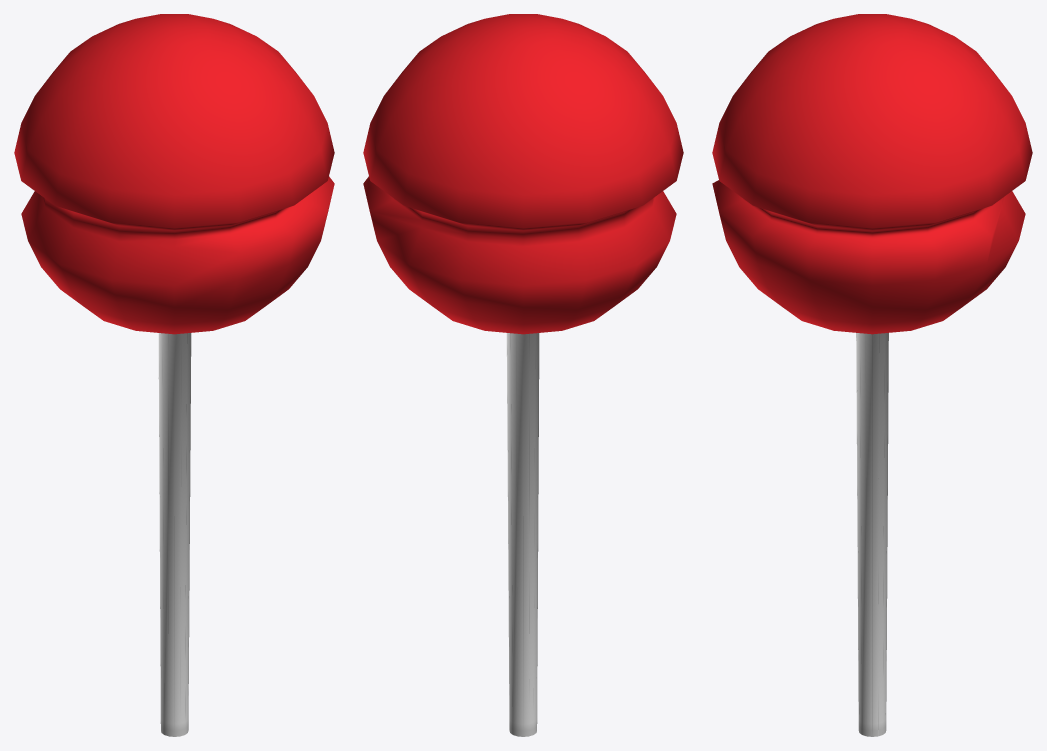
The model's file is lollipop.obj.
3 renders of one model, left to right at view 1: azimuth 30°, elevation 25°; view 2: azimuth 150°, elevation 25°; view 3: azimuth 270°, elevation 25°, orthographic.
Parts seen in each view (by area): view 1: pSphere1; view 2: pSphere1; view 3: pSphere1.
Boxes of the visible parts, x1,y1,x2,y2 form: pSphere1: (14,14,334,736); pSphere1: (363,14,683,736); pSphere1: (712,14,1032,736).
Size of the model in its own units: 1.97 by 4.79 by 1.98.
1 material, 1 textured.
